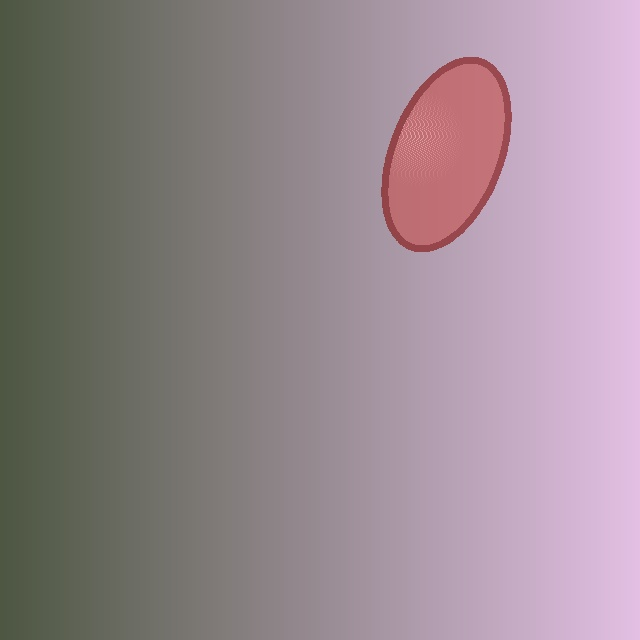lens: (385, 60, 507, 248)
